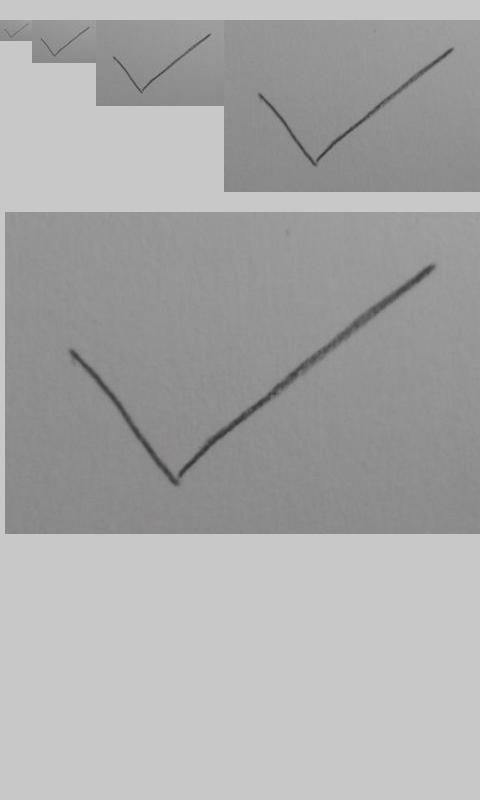check_box: (68, 263, 434, 485), (258, 47, 451, 168), (114, 34, 211, 94), (41, 26, 90, 57), (4, 23, 28, 39)
